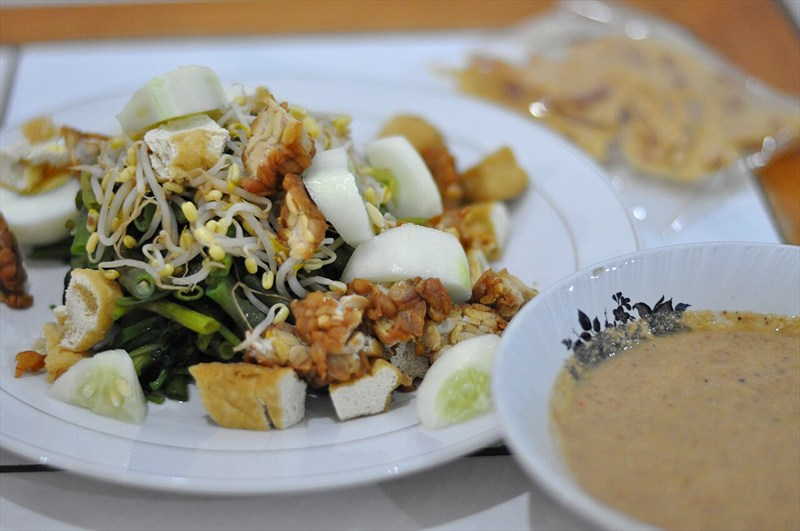Gado-Gado: (52, 127, 613, 412)
